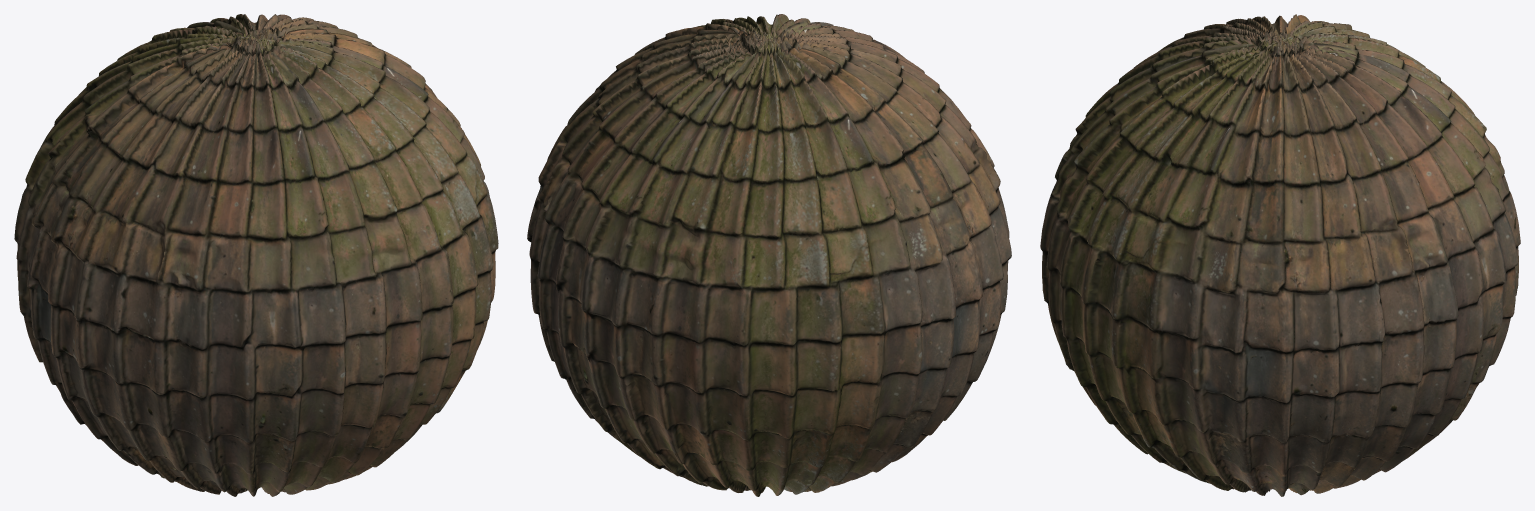
Rendered from roof_tiles_14_1k.gltf.
3 renders of one model, left to right at view 1: azimuth 30°, elevation 25°; view 2: azimuth 150°, elevation 25°; view 3: azimuth 270°, elevation 25°, orthographic.
Visible parts, largest first — view 1: sphere_gltf; view 2: sphere_gltf; view 3: sphere_gltf.
Part boxes in pixels (x1,y1,x2,y2): sphere_gltf: [14, 14, 498, 496]; sphere_gltf: [527, 14, 1011, 496]; sphere_gltf: [1040, 14, 1520, 496].
Size of the model in its own units: 1.54 by 1.54 by 1.54.
Materials: 1 (1 with a texture image).
